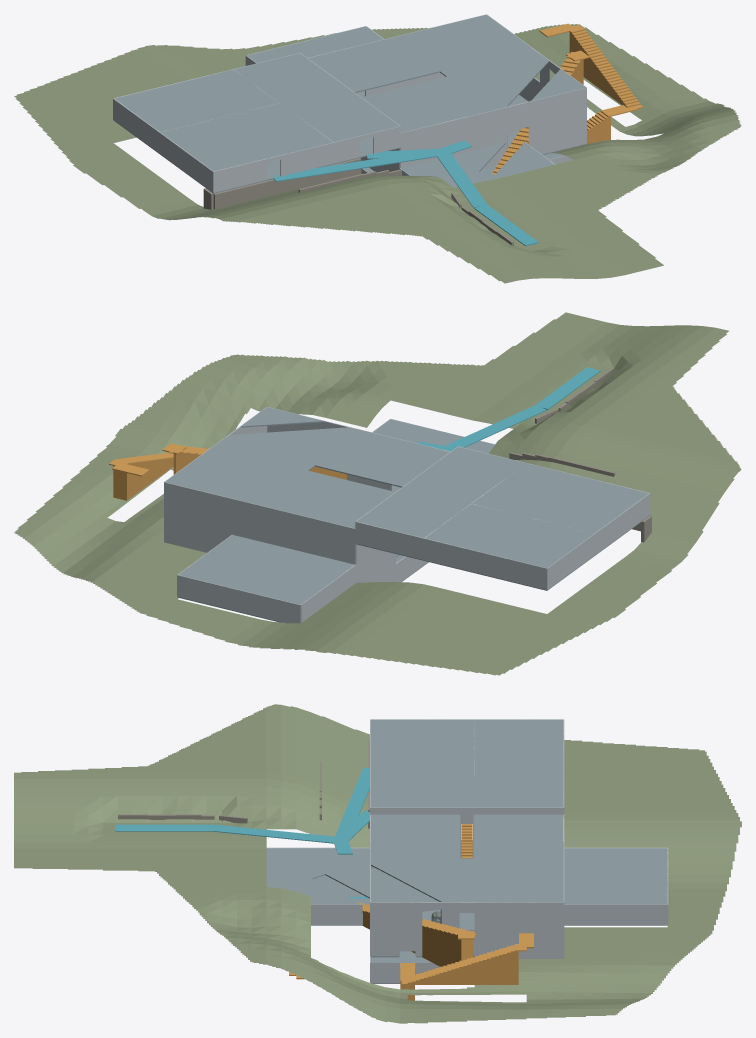
Rendered from retained-cuts.glb.
The picture shows the model from 3 angles, top to bottom: view 1: azimuth 30°, elevation 25°; view 2: azimuth 150°, elevation 25°; view 3: azimuth 270°, elevation 25°; orthographic projection. The views are drawn at different scales.
Visible parts, largest first — view 1: Saved editor circulation terrain WLD-09, Ceiling cap west-stair, Ceiling cap control, Opened stair shell Wall turbine S.001, Ceiling cap office, Restored ceiling-cap turbine 0 region0, Ceiling cap turbine.006, Ceiling cap turbine.003, Ceiling cap turbine, Ceiling cap plant, Ceiling cap turbine.004, Flat route shell Bayed shell Wall turbine S (+15 smaller); view 2: Saved editor circulation terrain WLD-09, Ceiling cap west-stair, Ceiling cap control, Ceiling cap plant, Flat route shell Wall turbine N.001, Ceiling cap office, Restored ceiling-cap turbine 0 region0, Ceiling cap turbine.006, Wall office N, Wall plant N, Ceiling cap turbine, Ceiling cap turbine.003 (+12 smaller); view 3: Saved editor circulation terrain WLD-09, Opened stair shell Wall turbine E, Ceiling cap west-stair, Ceiling cap control, Ceiling cap plant, Ceiling cap office, Restored ceiling-cap turbine 0 region0, Ceiling cap turbine.006, Ceiling cap turbine, Ceiling cap turbine.003, Wall plant E, Ceiling cap turbine.004 (+13 smaller).
Boxes of the visible parts, left/top/right/bottom form: Saved editor circulation terrain WLD-09: left=14, top=24, right=741, bottom=283; Ceiling cap west-stair: left=234, top=53, right=399, bottom=142; Ceiling cap control: left=160, top=103, right=332, bottom=171; Opened stair shell Wall turbine S.001: left=465, top=88, right=586, bottom=168; Ceiling cap office: left=115, top=69, right=278, bottom=131; Restored ceiling-cap turbine 0 region0: left=409, top=54, right=548, bottom=119; Ceiling cap turbine.006: left=394, top=14, right=531, bottom=70; Ceiling cap turbine.003: left=362, top=86, right=454, bottom=132; Ceiling cap turbine: left=308, top=46, right=400, bottom=91; Ceiling cap plant: left=246, top=26, right=382, bottom=63; Ceiling cap turbine.004: left=355, top=37, right=438, bottom=79; Flat route shell Bayed shell Wall turbine S: left=400, top=119, right=455, bottom=168; Saved editor circulation terrain WLD-09: left=14, top=312, right=741, bottom=675; Ceiling cap west-stair: left=356, top=447, right=526, bottom=537; Ceiling cap control: left=472, top=463, right=648, bottom=533; Ceiling cap plant: left=178, top=535, right=354, bottom=604; Flat route shell Wall turbine N.001: left=164, top=482, right=288, bottom=550; Ceiling cap office: left=425, top=504, right=593, bottom=567; Restored ceiling-cap turbine 0 region0: left=221, top=427, right=400, bottom=475; Ceiling cap turbine.006: left=165, top=448, right=306, bottom=505; Wall office N: left=424, top=538, right=547, bottom=589; Wall plant N: left=177, top=575, right=300, bottom=623; Ceiling cap turbine: left=300, top=481, right=394, bottom=528; Ceiling cap turbine.003: left=355, top=440, right=449, bottom=485; Saved editor circulation terrain WLD-09: left=14, top=704, right=741, bottom=1023; Opened stair shell Wall turbine E: left=370, top=902, right=563, bottom=956; Ceiling cap west-stair: left=370, top=776, right=563, bottom=807; Ceiling cap control: left=370, top=719, right=474, bottom=776; Ceiling cap plant: left=564, top=848, right=667, bottom=904; Ceiling cap office: left=474, top=719, right=563, bottom=776; Restored ceiling-cap turbine 0 region0: left=370, top=840, right=460, bottom=902; Ceiling cap turbine.006: left=475, top=858, right=563, bottom=902; Ceiling cap turbine: left=475, top=814, right=563, bottom=840; Ceiling cap turbine.003: left=370, top=814, right=458, bottom=840; Wall plant E: left=564, top=904, right=667, bottom=924; Ceiling cap turbine.004: left=475, top=840, right=563, bottom=858.
Size of the model in its own units: 85 by 13.16 by 98.
Materials: 34 (17 with a texture image).
